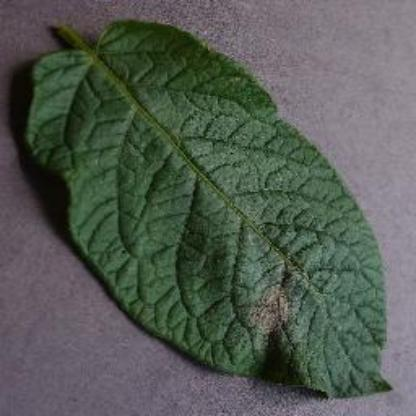Late-Blight: (16, 13, 408, 400)
